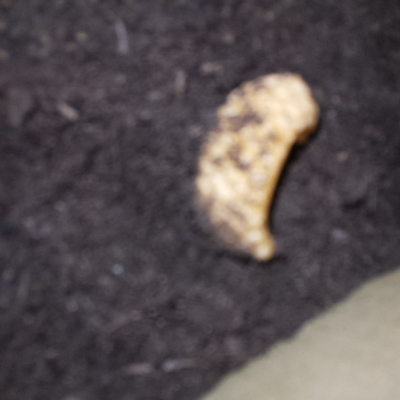eggs: (188, 64, 326, 266)
